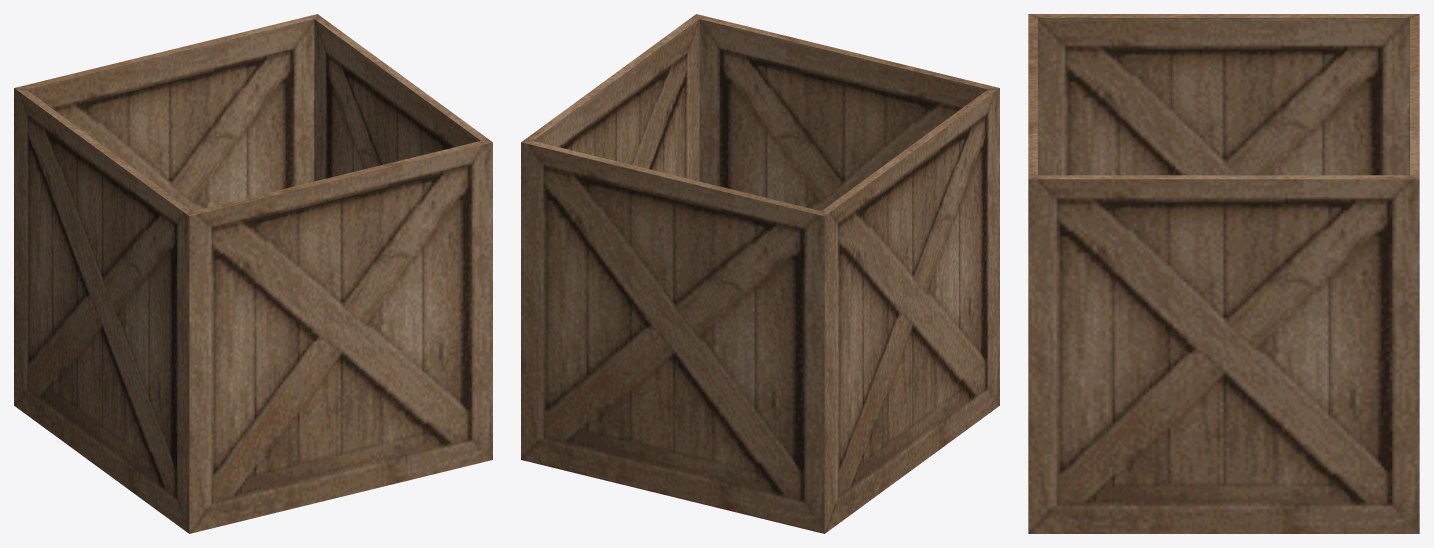
The model's file is SM_Wooden_Create_01_Chest.fbx.
3 views of the same model, side by side, from view 1: azimuth 30°, elevation 25°; view 2: azimuth 150°, elevation 25°; view 3: azimuth 270°, elevation 25° (orthographic). The views are drawn at different scales.
Parts seen in each view (by area): view 1: SM_Wooden_Create_01_Chest; view 2: SM_Wooden_Create_01_Chest; view 3: SM_Wooden_Create_01_Chest.
Part boxes in pixels (left/top/right/bottom): SM_Wooden_Create_01_Chest: left=14, top=14, right=492, bottom=533; SM_Wooden_Create_01_Chest: left=521, top=14, right=999, bottom=533; SM_Wooden_Create_01_Chest: left=1028, top=14, right=1419, bottom=533.
Bounding box in the file's own units: 200 × 200 × 200.
